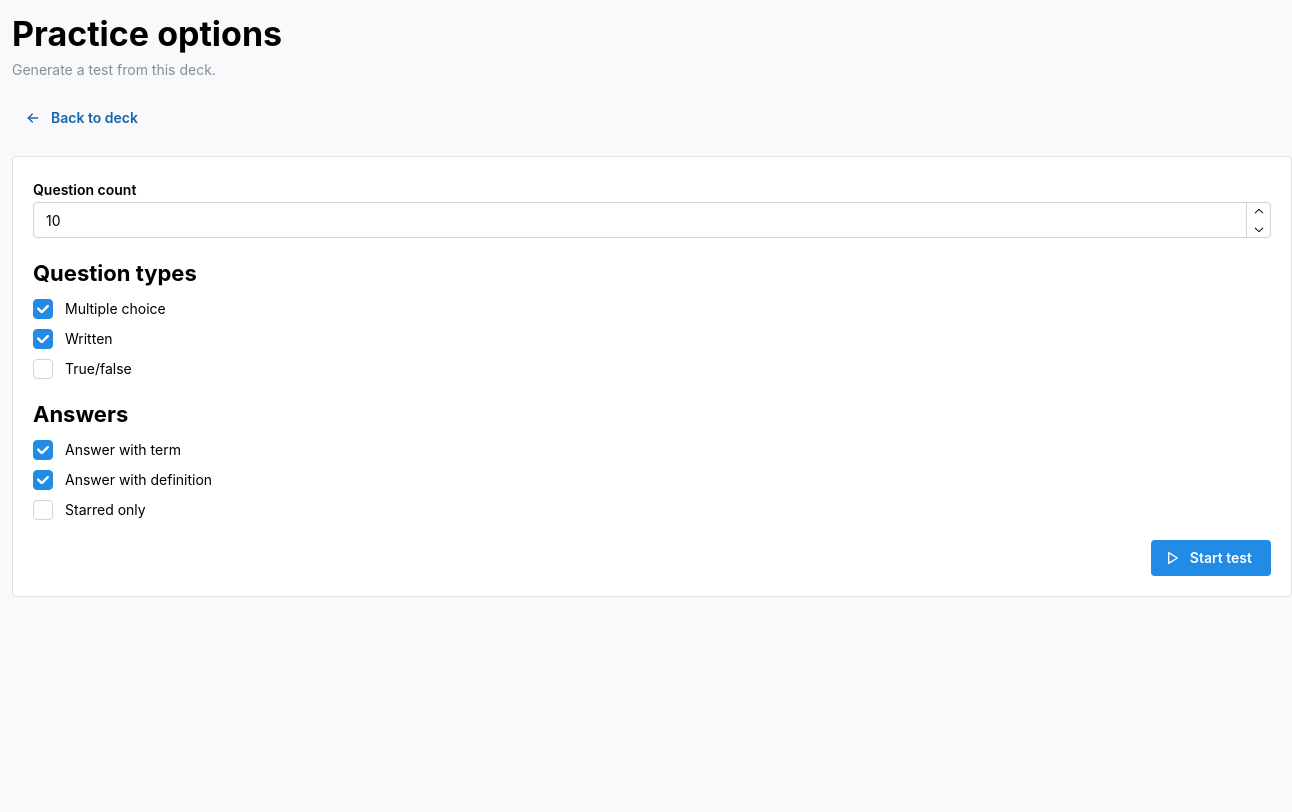
Test case: practice test mode › starts a practice test, answers a question, and submits results
This screenshot has width=1292, height=812.
Replace the text in the field labelled "Question count" with "1" at (652, 220), box [33,202,1271,238]
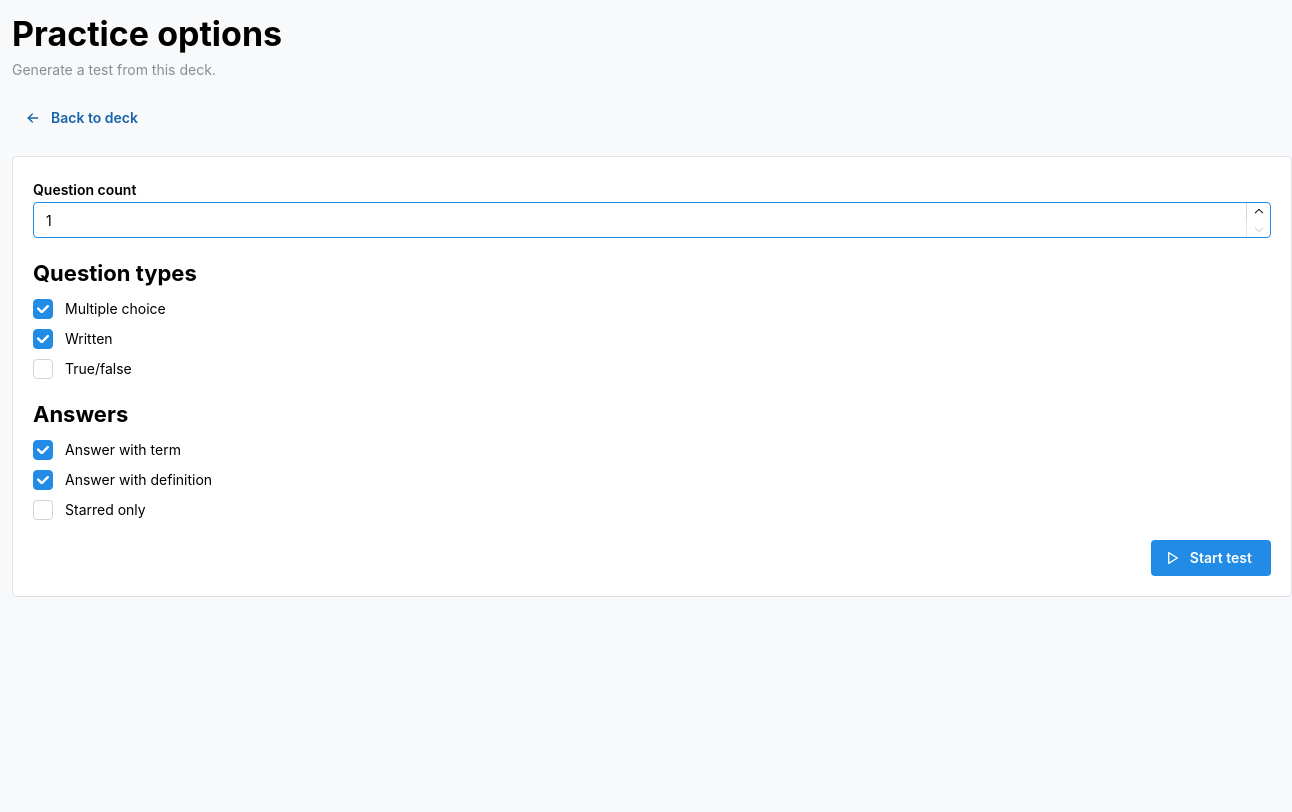
Click the button "Start test" at (1211, 558), box [1151,540,1271,576]
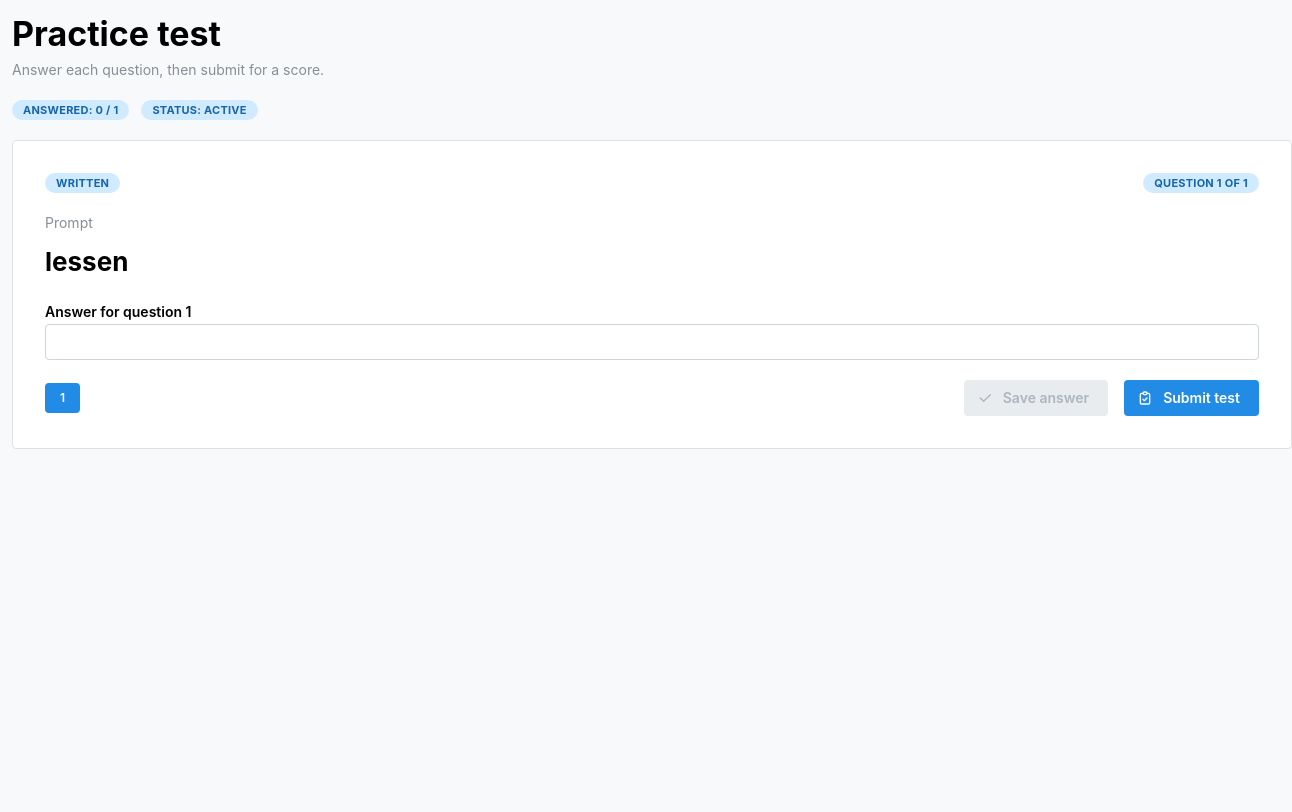
Now the heading "lessen" is shown, box [45,246,128,277]
Type "abate" into the field labelled "Answer for question 1" at (652, 342), box [45,324,1259,360]
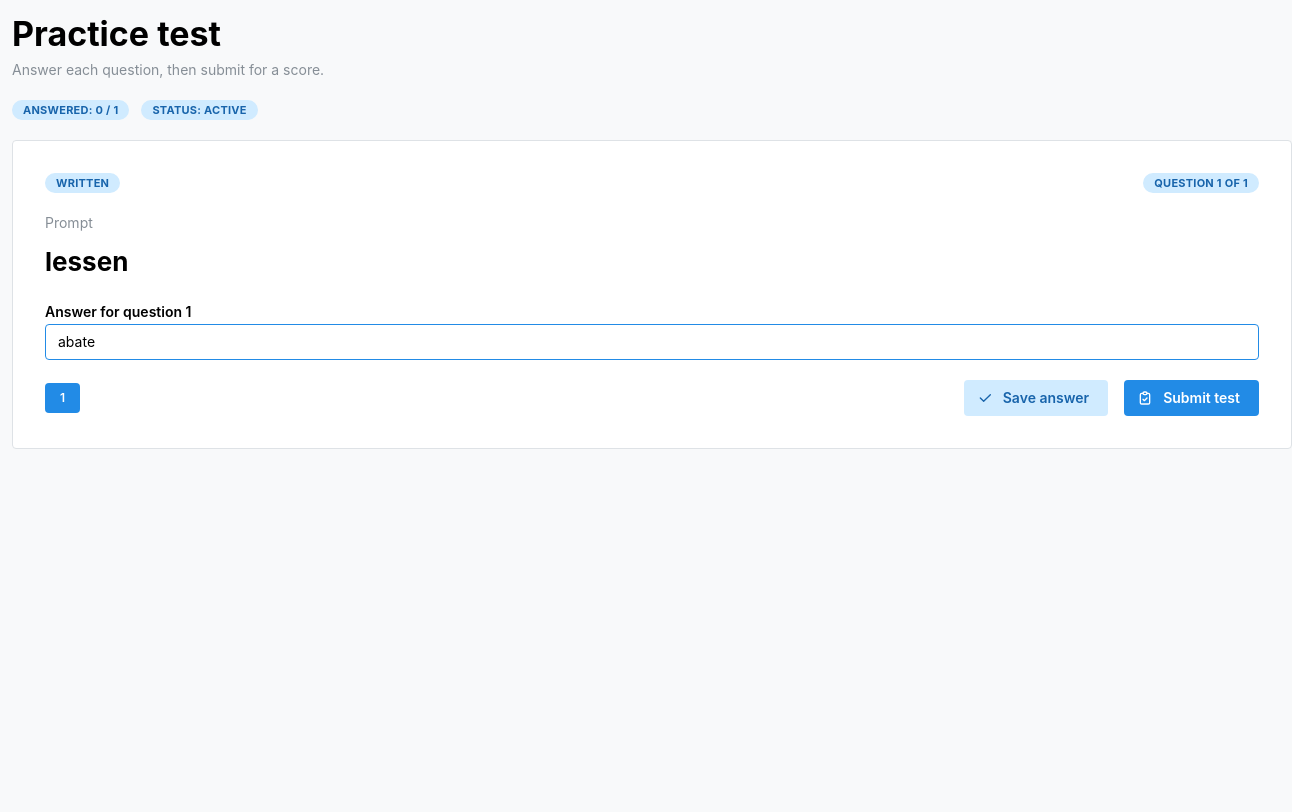
Click the button "Save answer" at (1036, 398), box [964,380,1108,416]
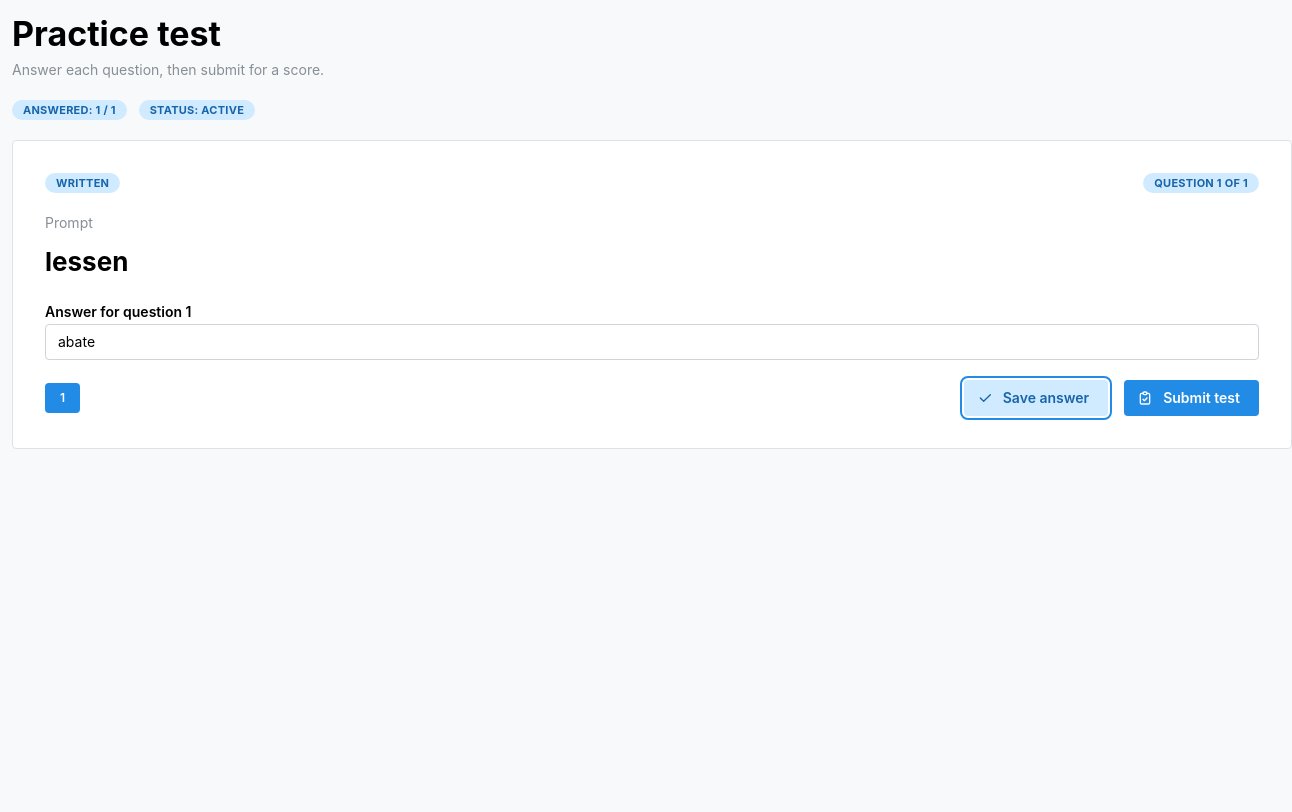
Click the button "Submit test" at (1192, 398), box [1124,380,1259,416]
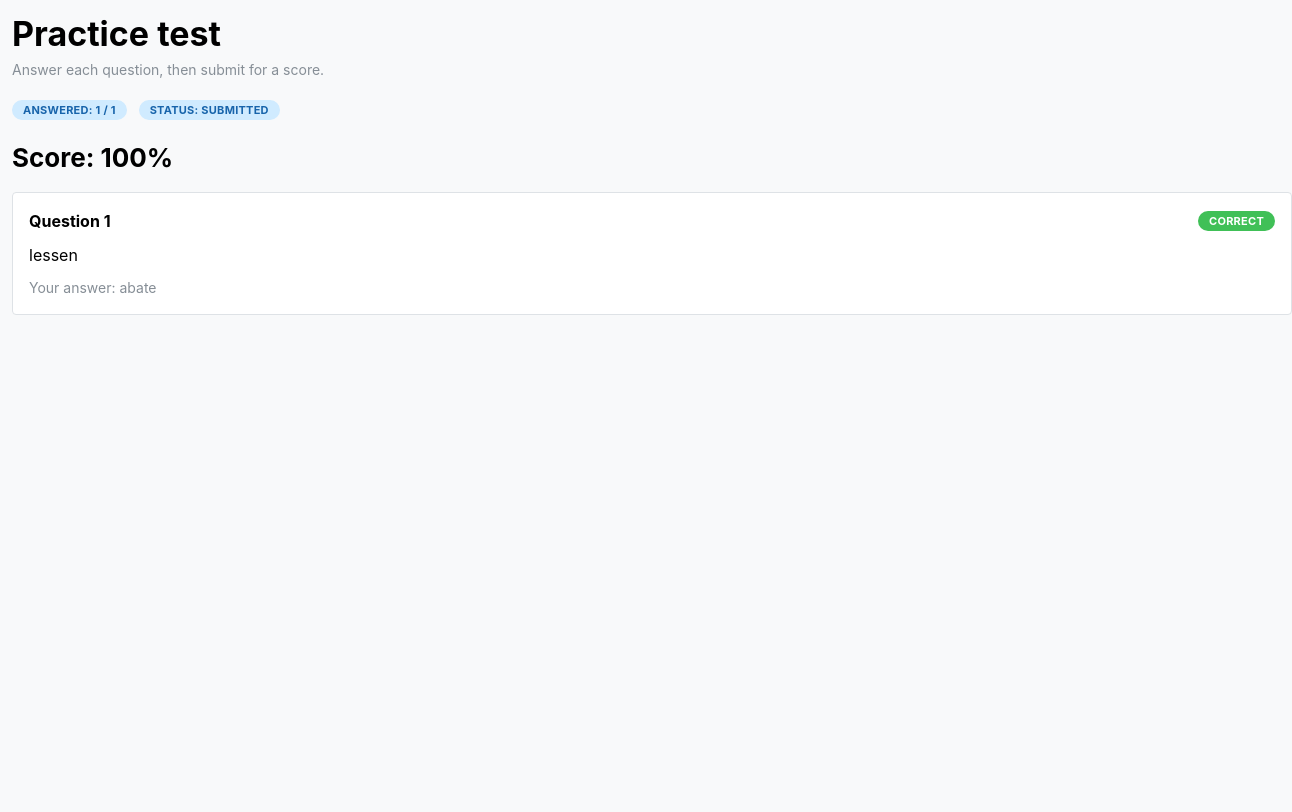
Now the heading "Score: 100%" is shown, box [12,142,173,174]
Now the text "Correct" is shown, box [1209,212,1264,230]
